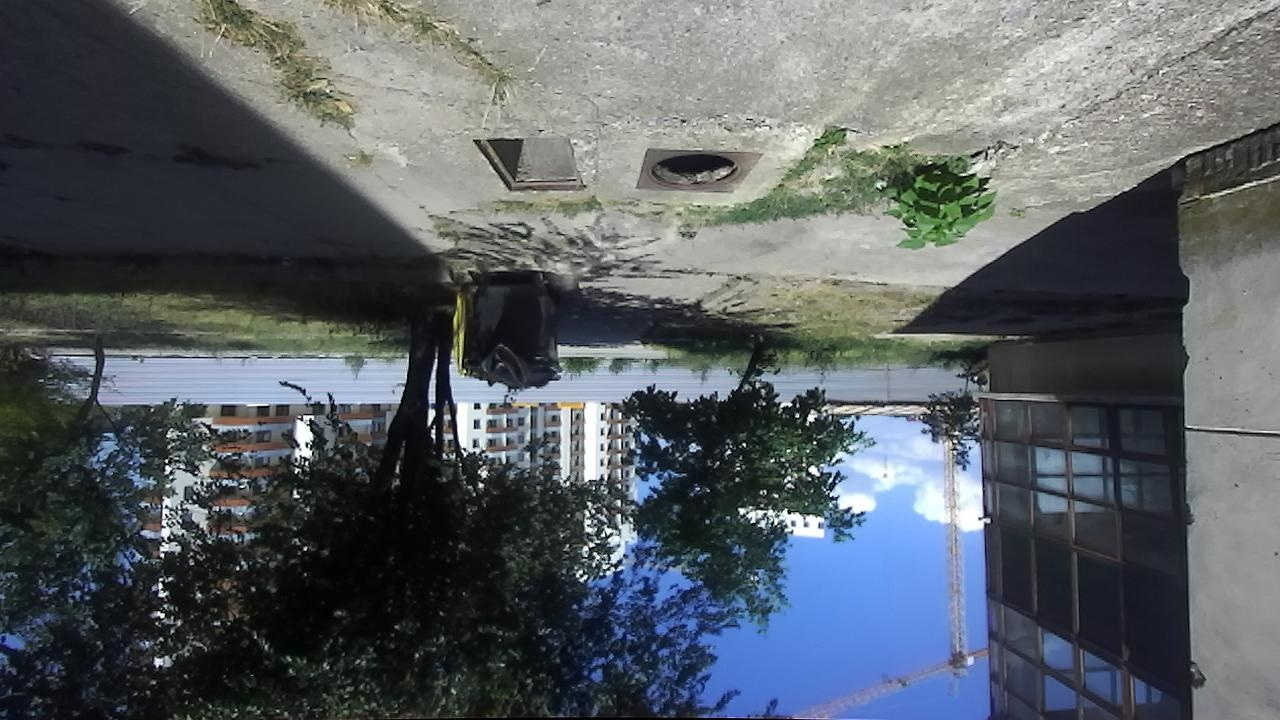drain: (471, 134, 588, 196), (645, 150, 745, 192)
